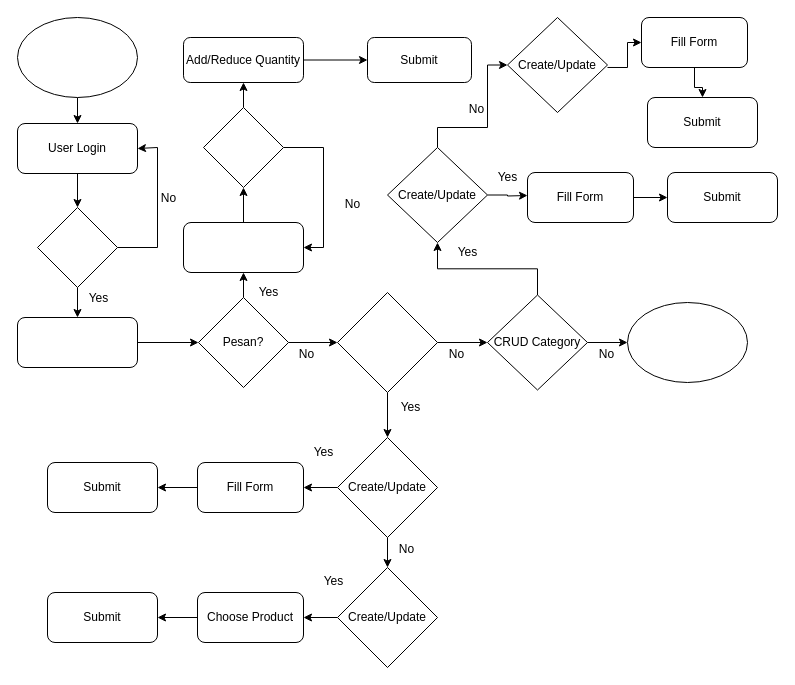
This 795x685 diagram has some shape labels left out. Here are the shapes that lost their labels. From the top down, the box of each, then its label:
(16, 16, 138, 98): START
(202, 106, 284, 188): Selesai?
(36, 206, 118, 288): Succes?
(182, 222, 304, 272): Pilih Pesanan
(16, 316, 138, 368): Menu Utama
(336, 292, 438, 392): CRUD Product?
(626, 302, 748, 382): END
